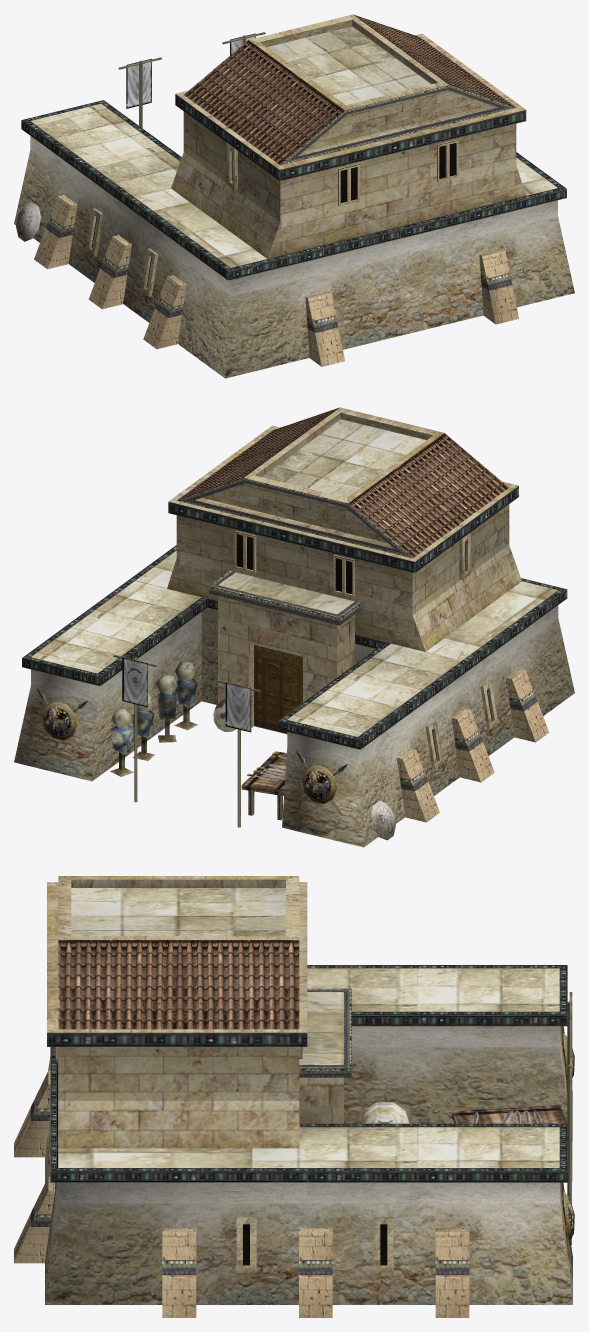
The model's file is cart_barracks.glb.
3 renders of one model, top to bottom at view 1: azimuth 30°, elevation 25°; view 2: azimuth 150°, elevation 25°; view 3: azimuth 270°, elevation 25°, orthographic. The views are drawn at different scales.
Visible parts, largest first — view 1: cart_barracks_part0, cart_barracks_part1; view 2: cart_barracks_part0, cart_barracks_part1, cart_barracks_part2; view 3: cart_barracks_part0, cart_barracks_part1, cart_barracks_part2.
Boxes of the visible parts, x1,y1,x2,y2 form: cart_barracks_part0: [14, 14, 574, 378]; cart_barracks_part1: [16, 32, 265, 241]; cart_barracks_part0: [14, 407, 574, 847]; cart_barracks_part1: [42, 655, 395, 840]; cart_barracks_part2: [36, 688, 347, 815]; cart_barracks_part0: [14, 876, 572, 1317]; cart_barracks_part1: [360, 992, 574, 1244]; cart_barracks_part2: [473, 1026, 568, 1259].
Size of the model in its own units: 4 by 2.38 by 3.96.
Materials: 2 (2 with a texture image).
